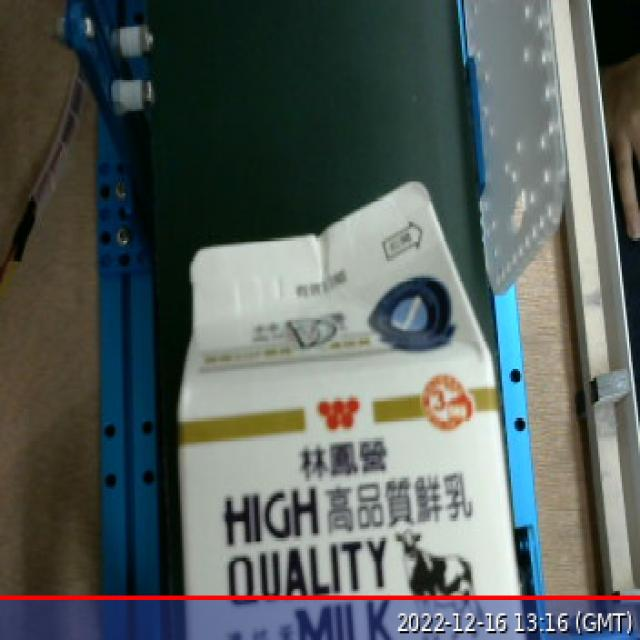non_white_jug: (168, 177, 523, 640)
